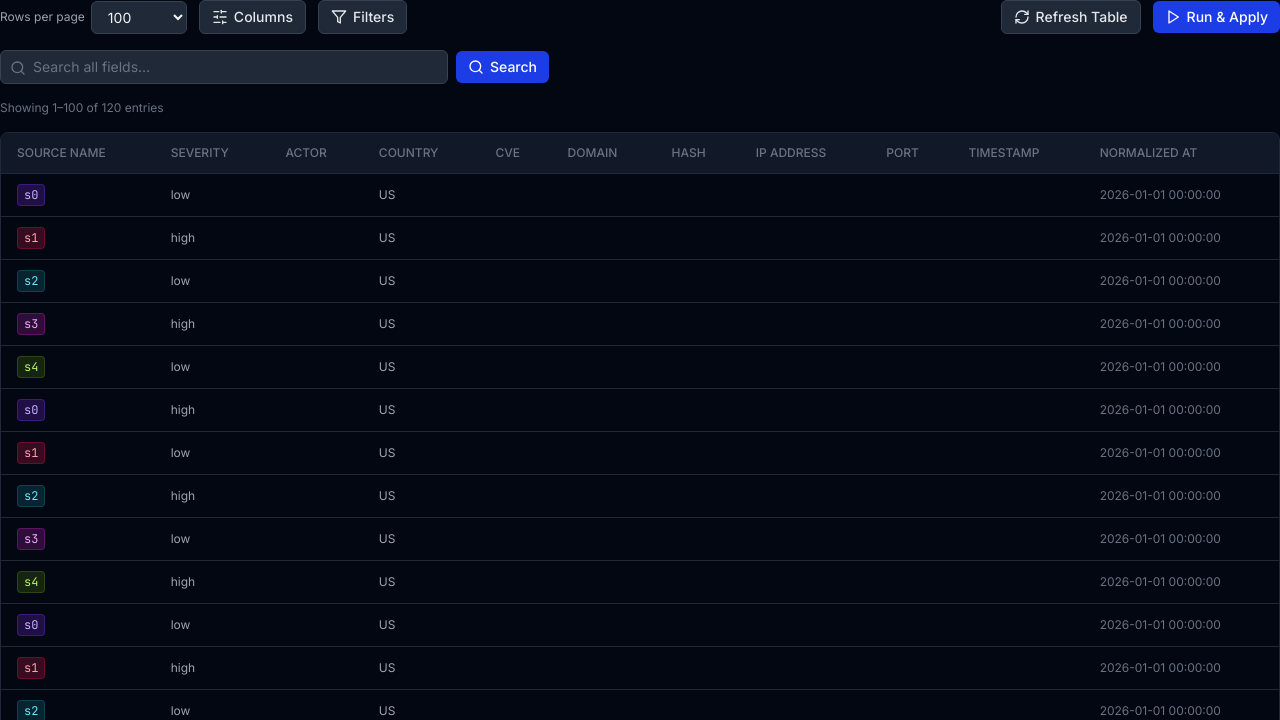
Test case: NormalizedTable controls (prompts-043) › paginates by the selected page size
// Switch to 50 → 3 pages.
Select "50" in the dropdown labelled "Rows per page" at (139, 17), box [91,0,187,34]
(page scrolled)
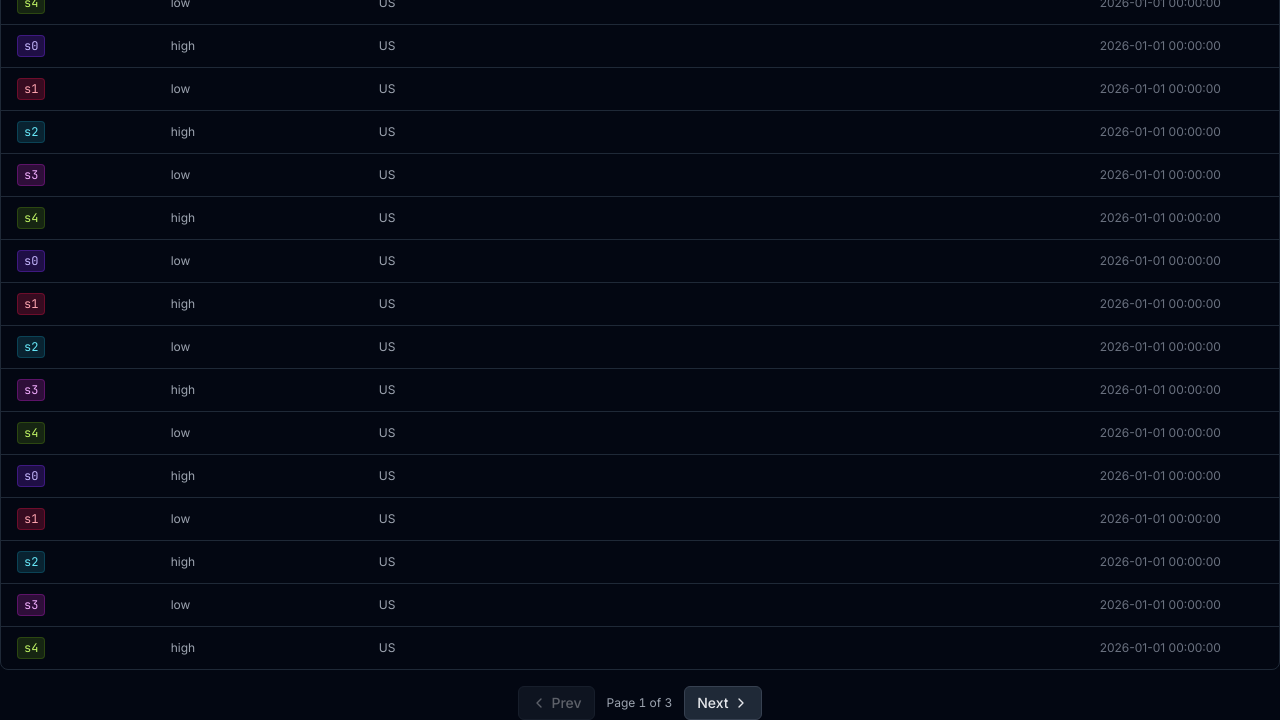
expect the text "Page 1 of 3" is shown: met, box [607,695,672,711]
